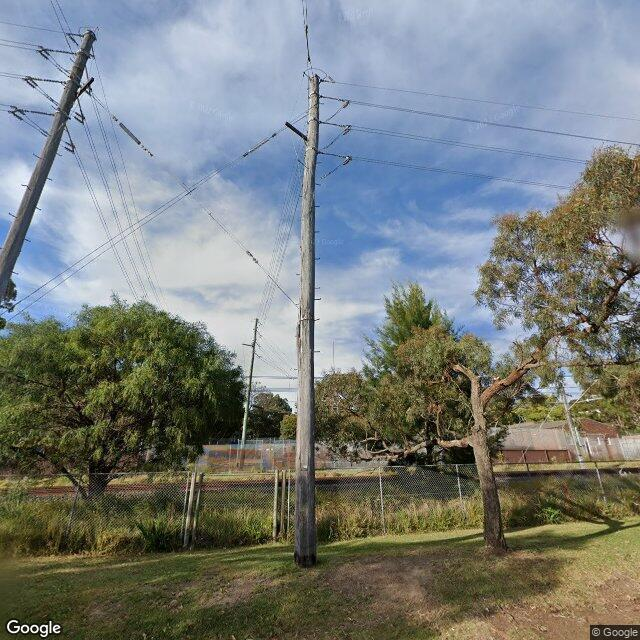HV-transmission: (7, 31, 96, 154), (316, 76, 352, 186), (252, 318, 264, 358)
crossarm: (74, 76, 94, 100), (284, 120, 308, 140), (241, 343, 252, 347)
timber-pole: (0, 29, 97, 298), (294, 74, 320, 566), (238, 318, 260, 471)
